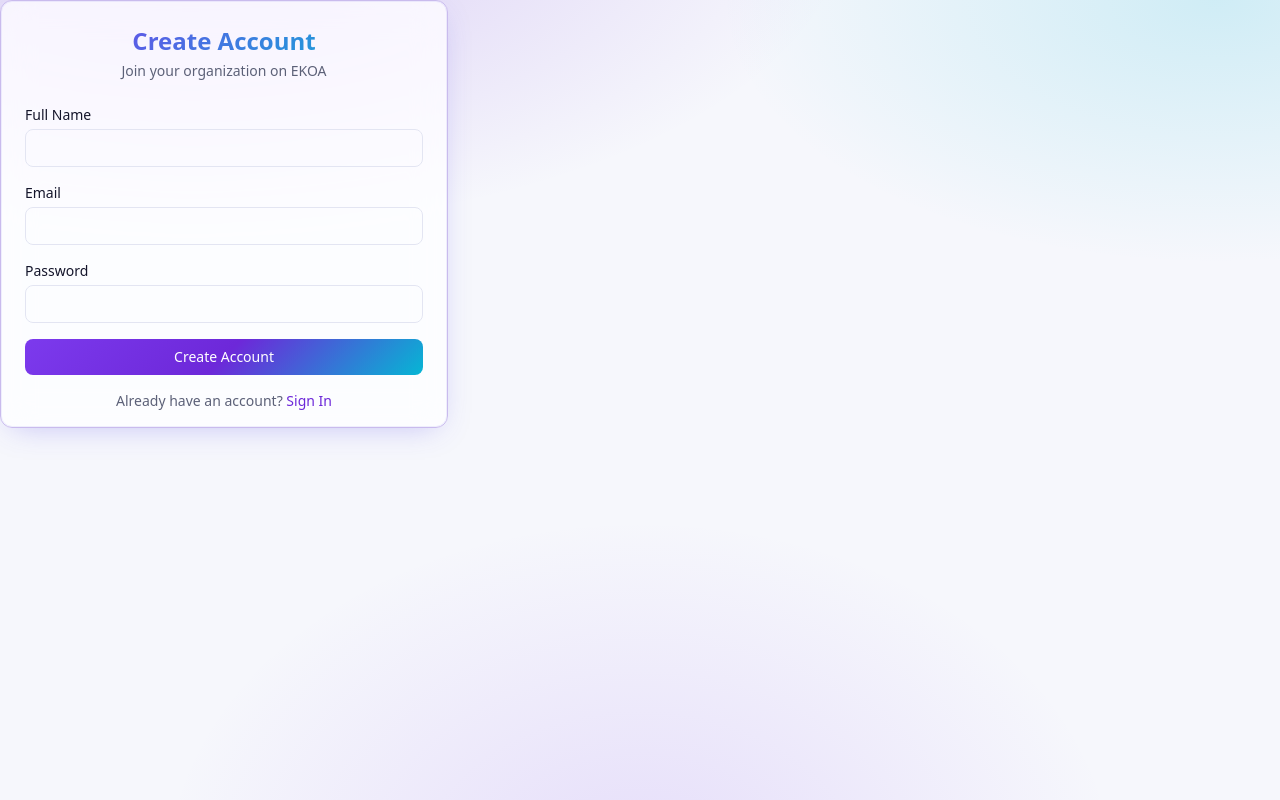
Test case: RegisterForm › rejects a password shorter than 8 characters
Type "Ada Lovelace" into the field labelled "Full Name" at (224, 148), box [25,129,423,167]
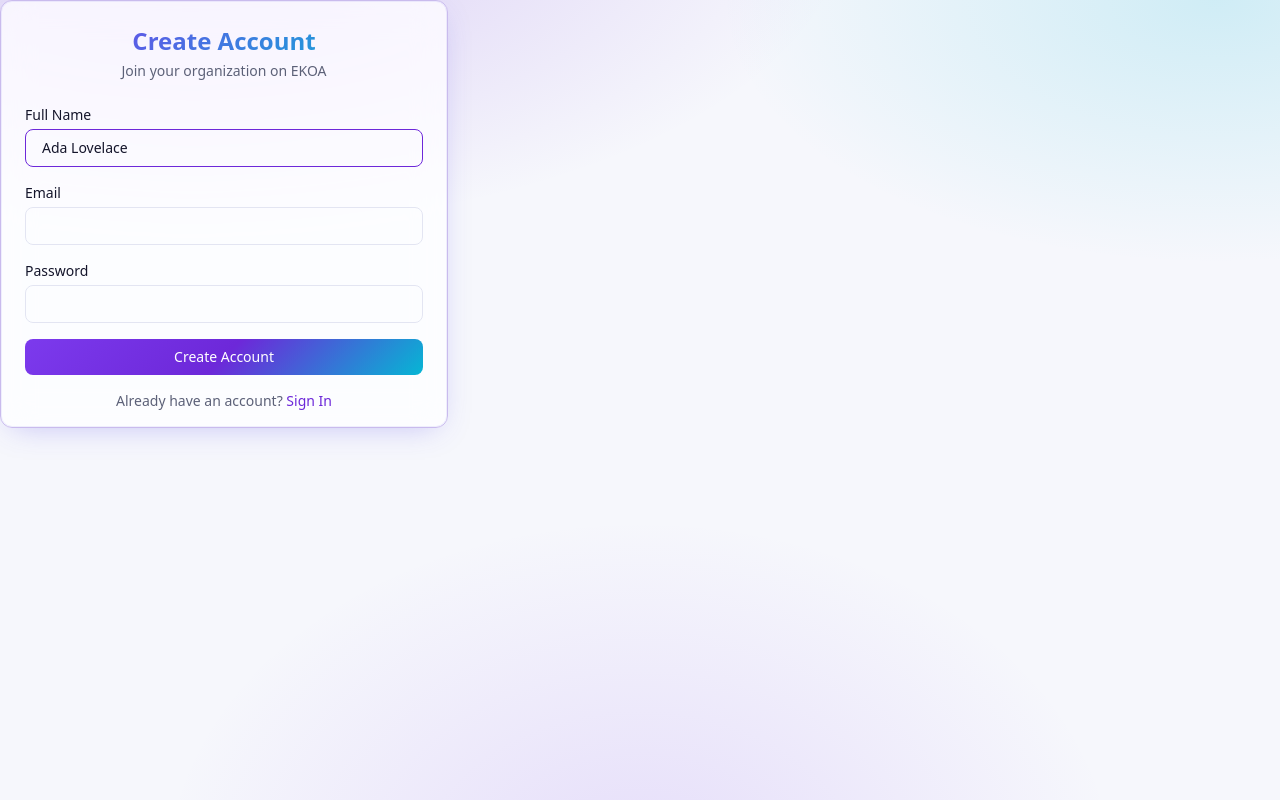
Type "ada@ekoa.dev" into the field labelled "Email" at (224, 226), box [25,207,423,245]
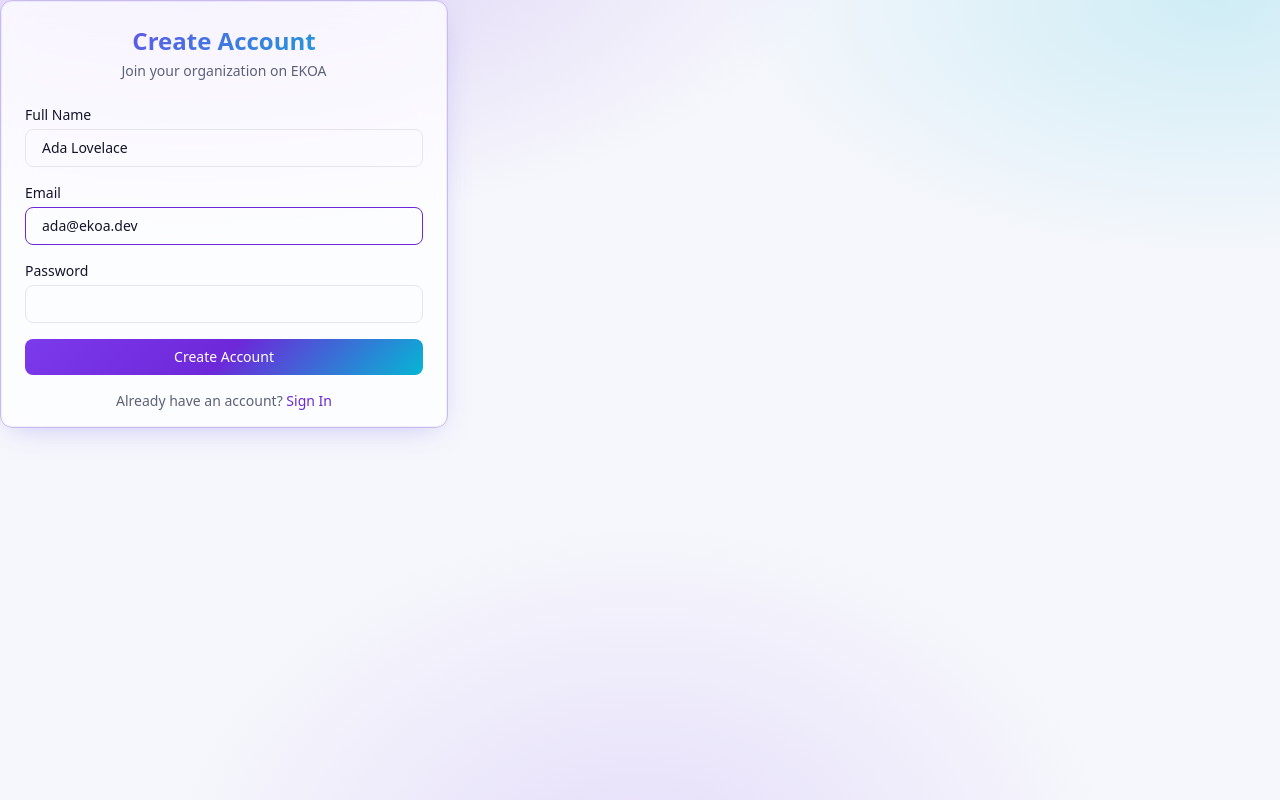
Type "short" into the password field labelled "Password" at (224, 304), box [25,285,423,323]
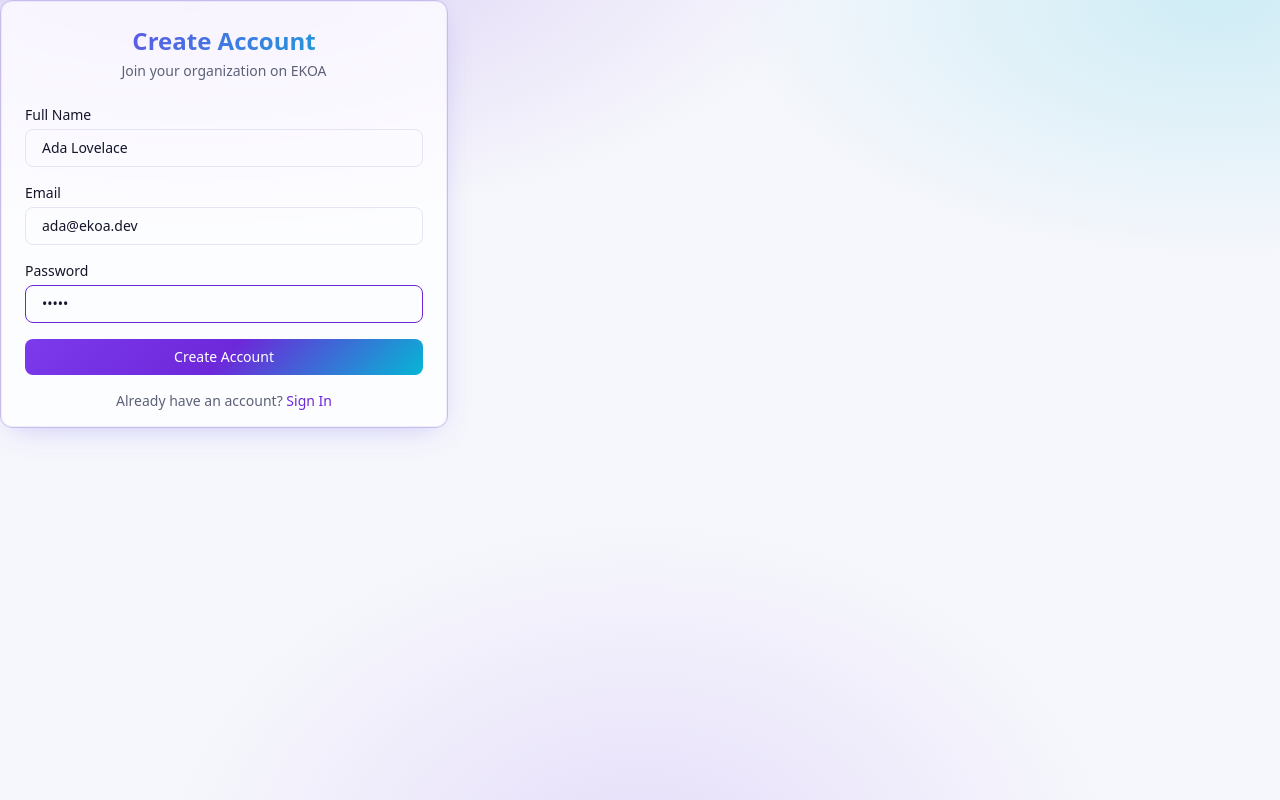
Click the button "Create Account" at (224, 357), box [25,339,423,375]
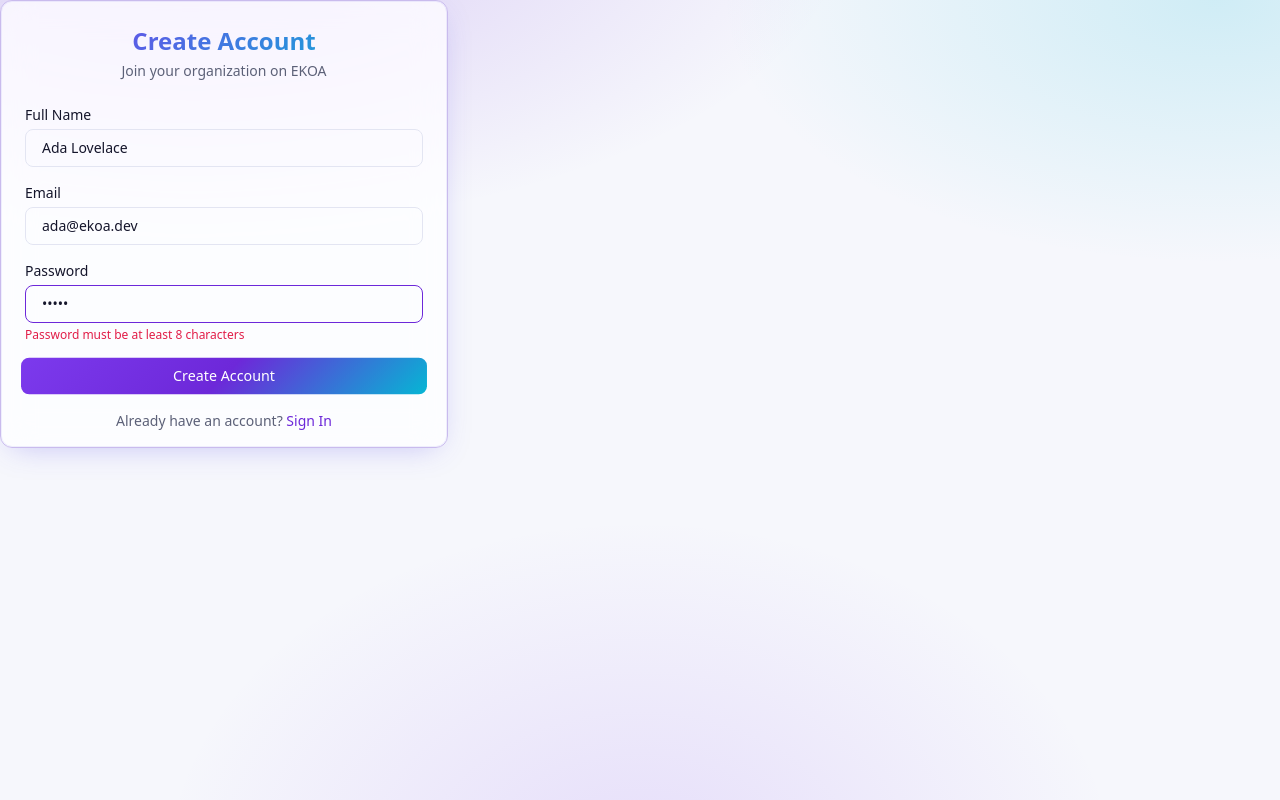
Result: the text "Password must be at least 8 characters" is shown at [25,326,244,343]
